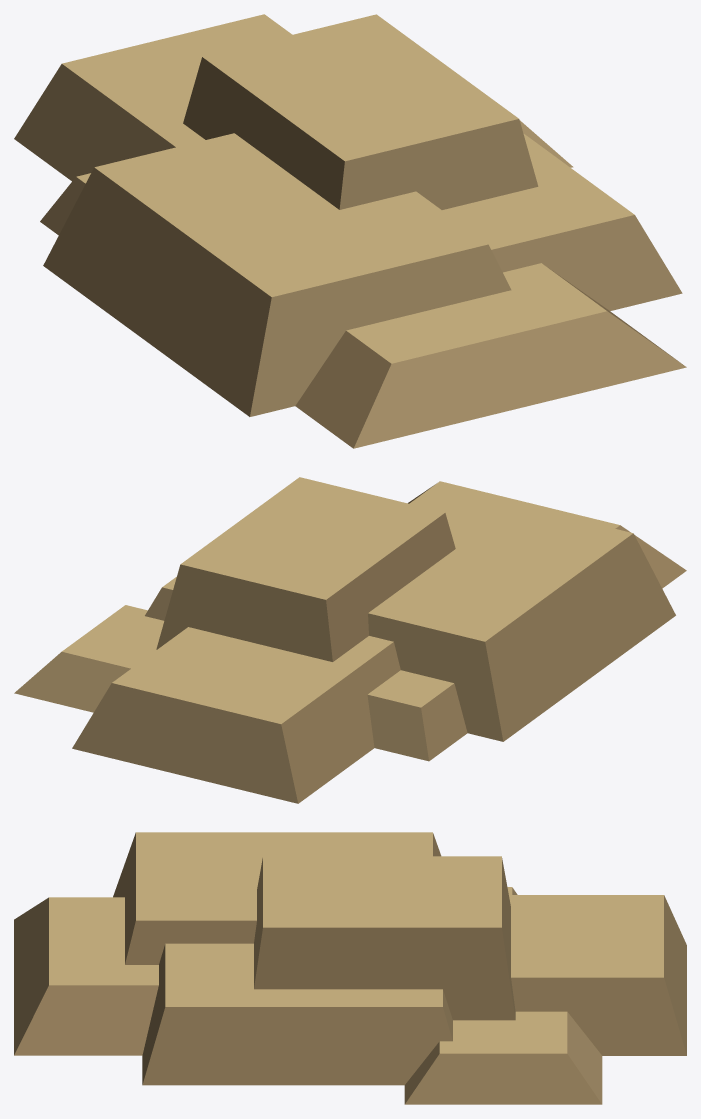
The model's file is SM_Env_Rock_Brown_01.fbx.
The picture shows the model from 3 angles, top to bottom: view 1: azimuth 30°, elevation 25°; view 2: azimuth 150°, elevation 25°; view 3: azimuth 270°, elevation 25°; orthographic projection. The views are drawn at different scales.
Parts seen in each view (by area): view 1: SM_Env_Rock_Brown_01; view 2: SM_Env_Rock_Brown_01; view 3: SM_Env_Rock_Brown_01.
Part boxes in pixels (x1,y1,x2,y2): SM_Env_Rock_Brown_01: (14, 14, 686, 448); SM_Env_Rock_Brown_01: (14, 477, 686, 803); SM_Env_Rock_Brown_01: (14, 832, 686, 1104).
Bounding box in the file's own units: 2.67 × 0.7384 × 3.74.
